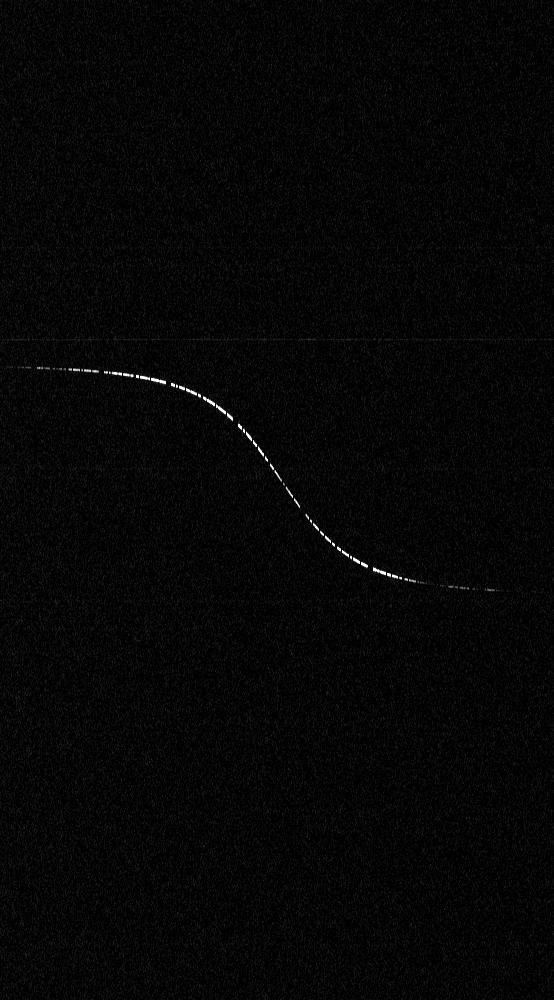signal: (0, 0, 553, 999)
